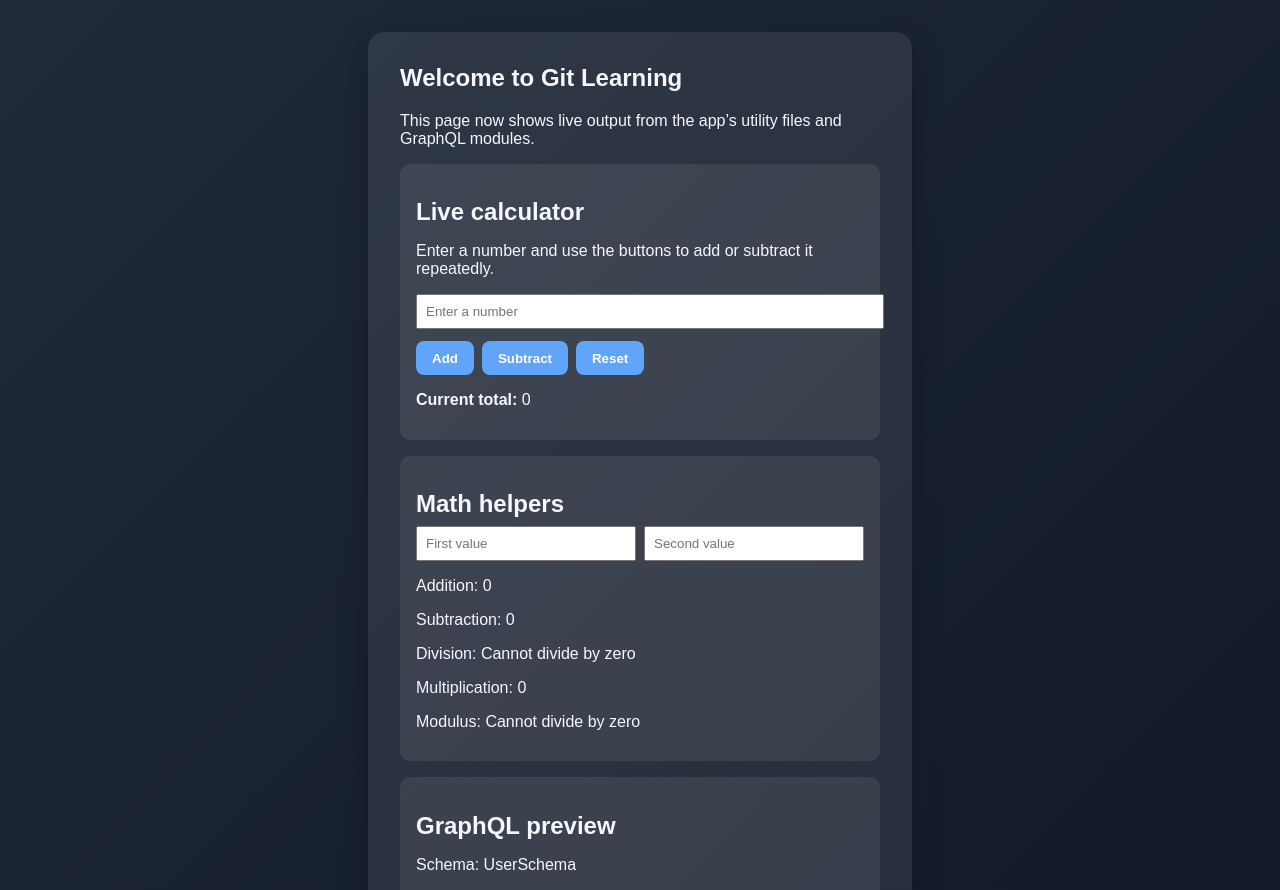
Test: App › supports repeated calculator operations and reset
The image size is (1280, 890).
In the number field with placeholder "Enter a number": [650, 312] box [416,294,884,329], type "5"
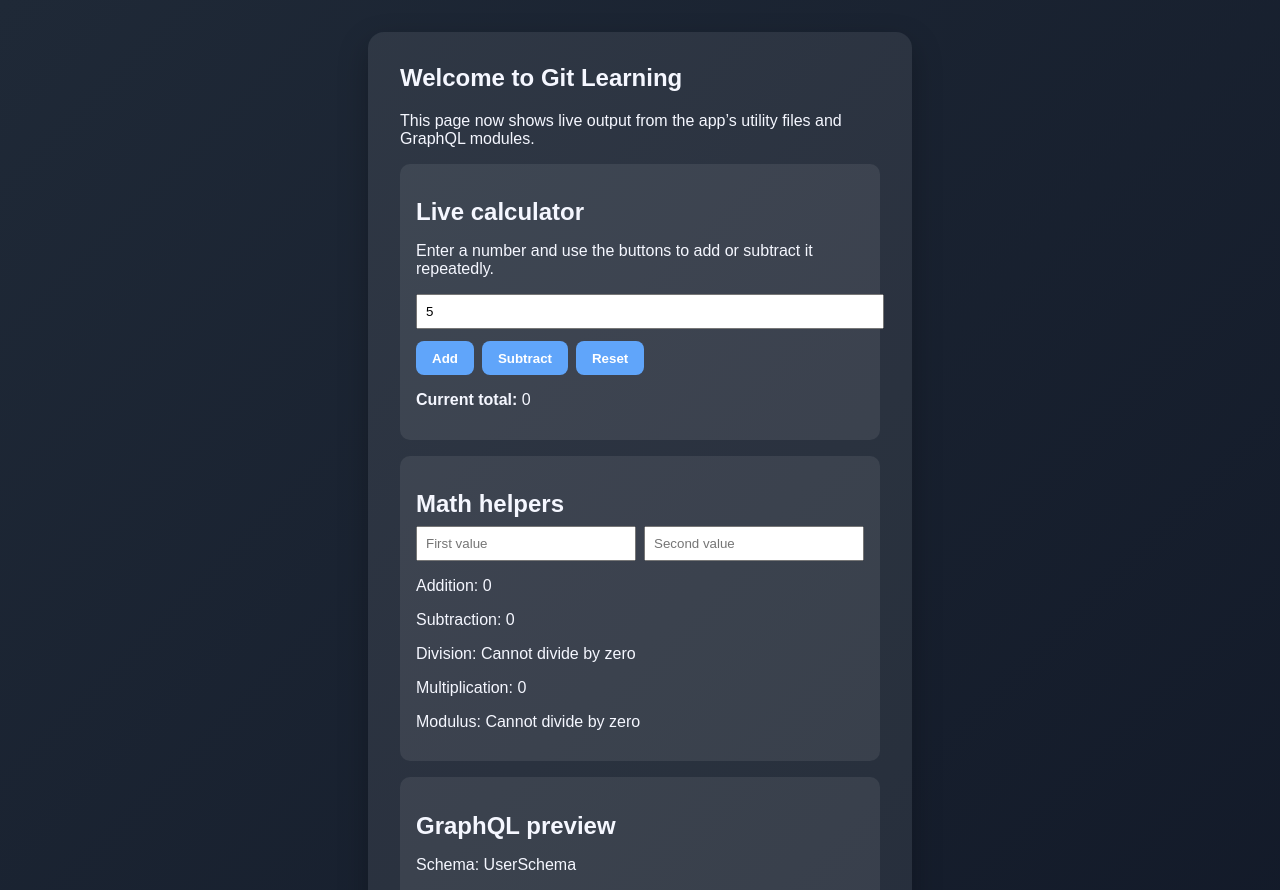
Click the button "Add": [445, 358] box [416,341,474,375]
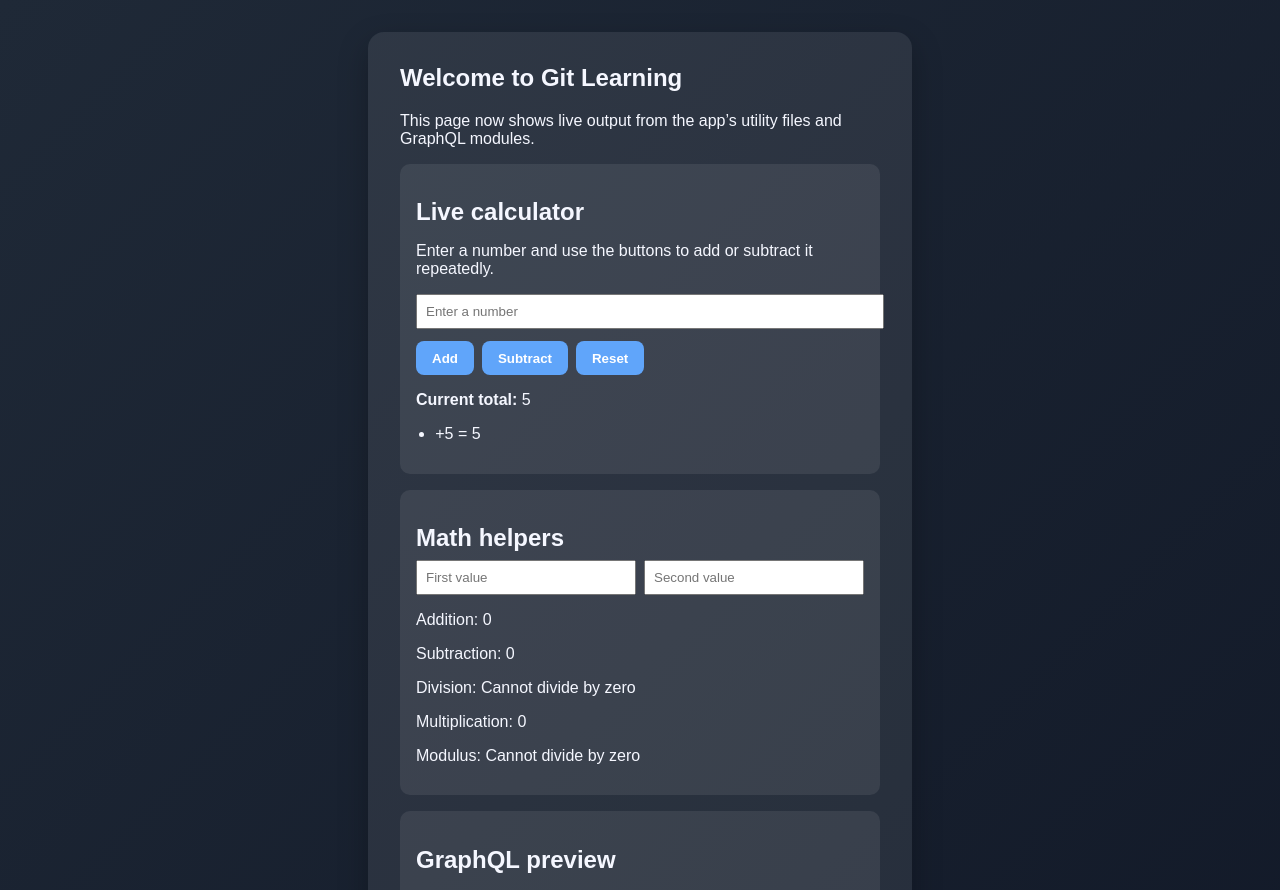
Check: the list item "+5 = 5" is shown, box [435,425,481,442]
Check: the number field with placeholder "Enter a number" is not empty
In the number field with placeholder "Enter a number": [650, 312] box [416,294,884,329], type "2"
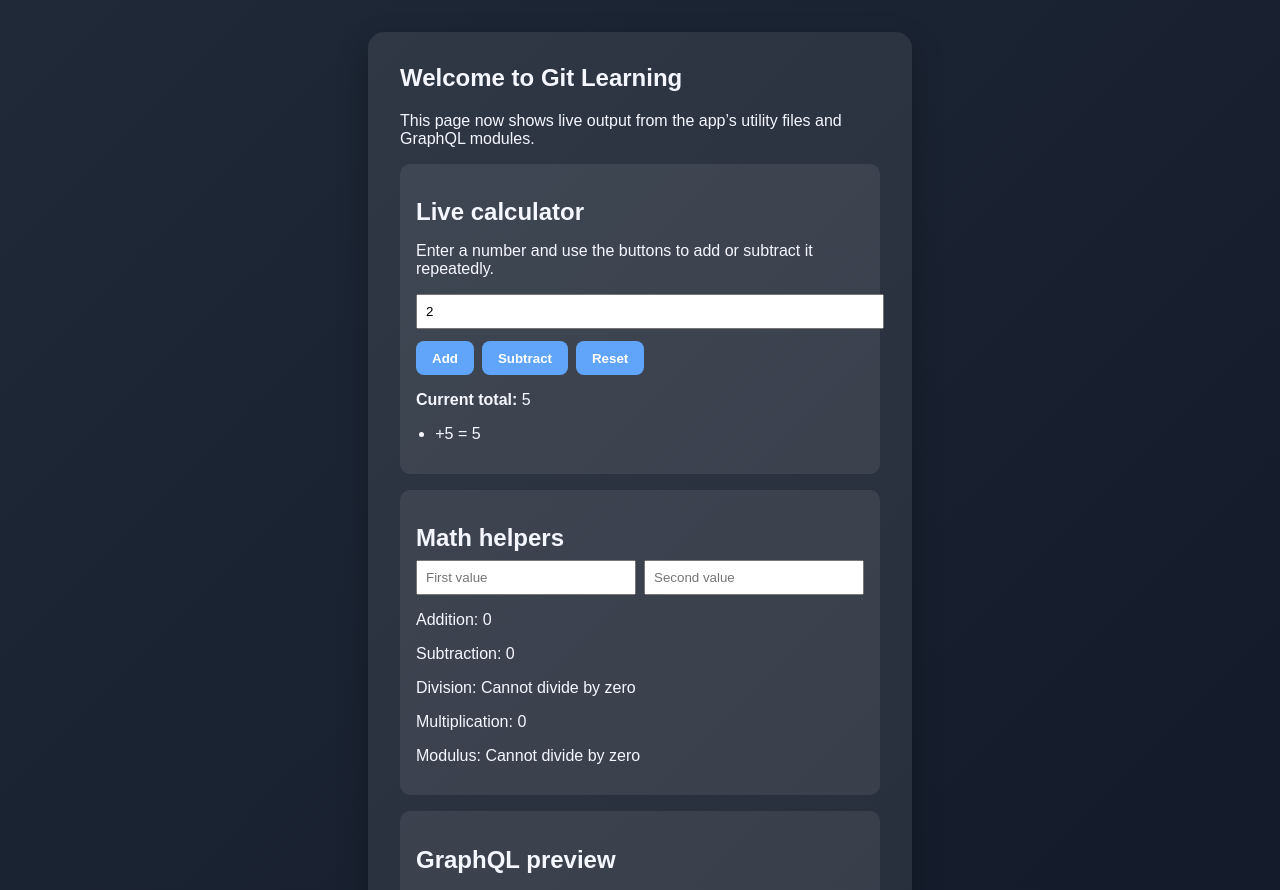
Click the button "Subtract": [525, 358] box [482,341,568,375]
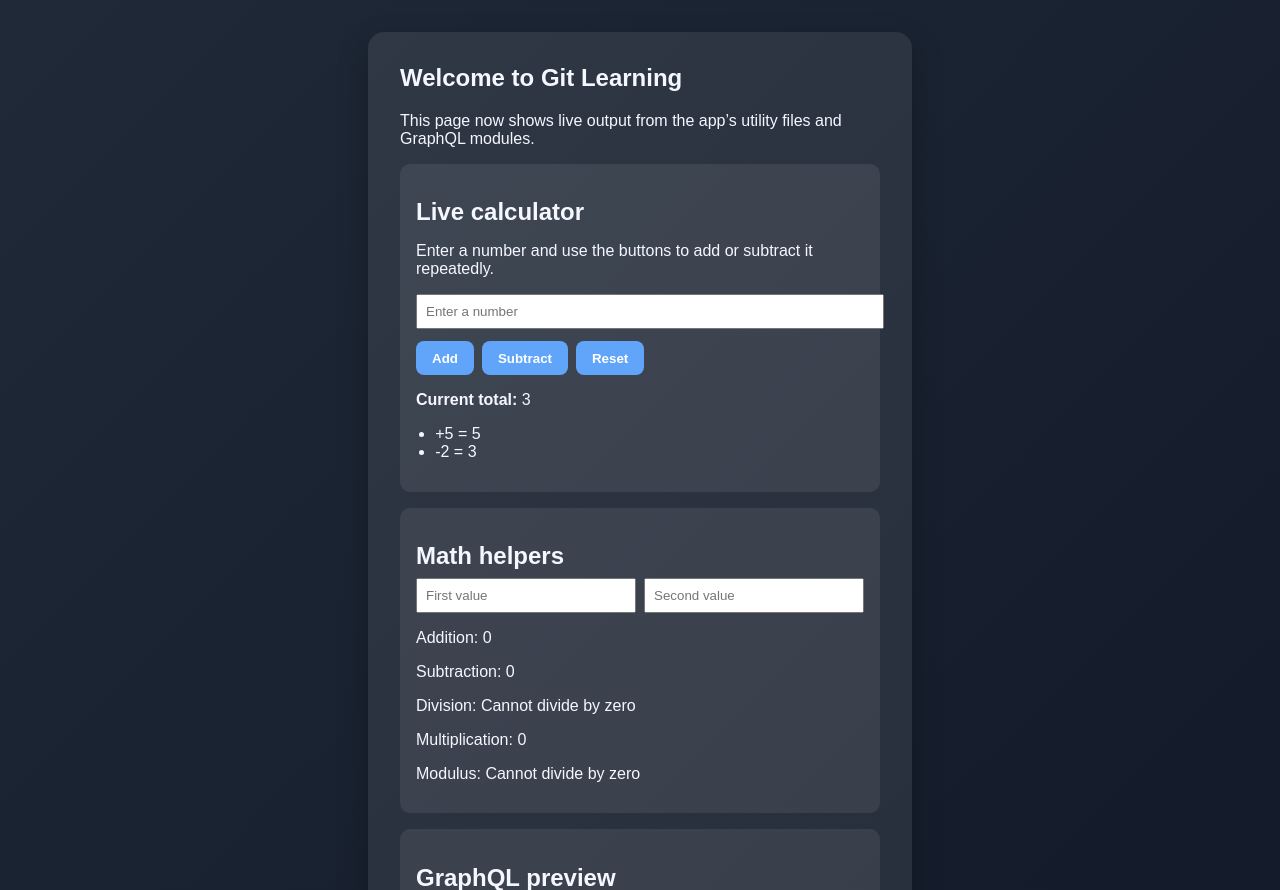
Check: the list item "-2 = 3" is shown, box [435,443,477,460]
Click the button "Reset": [610, 358] box [576,341,644,375]
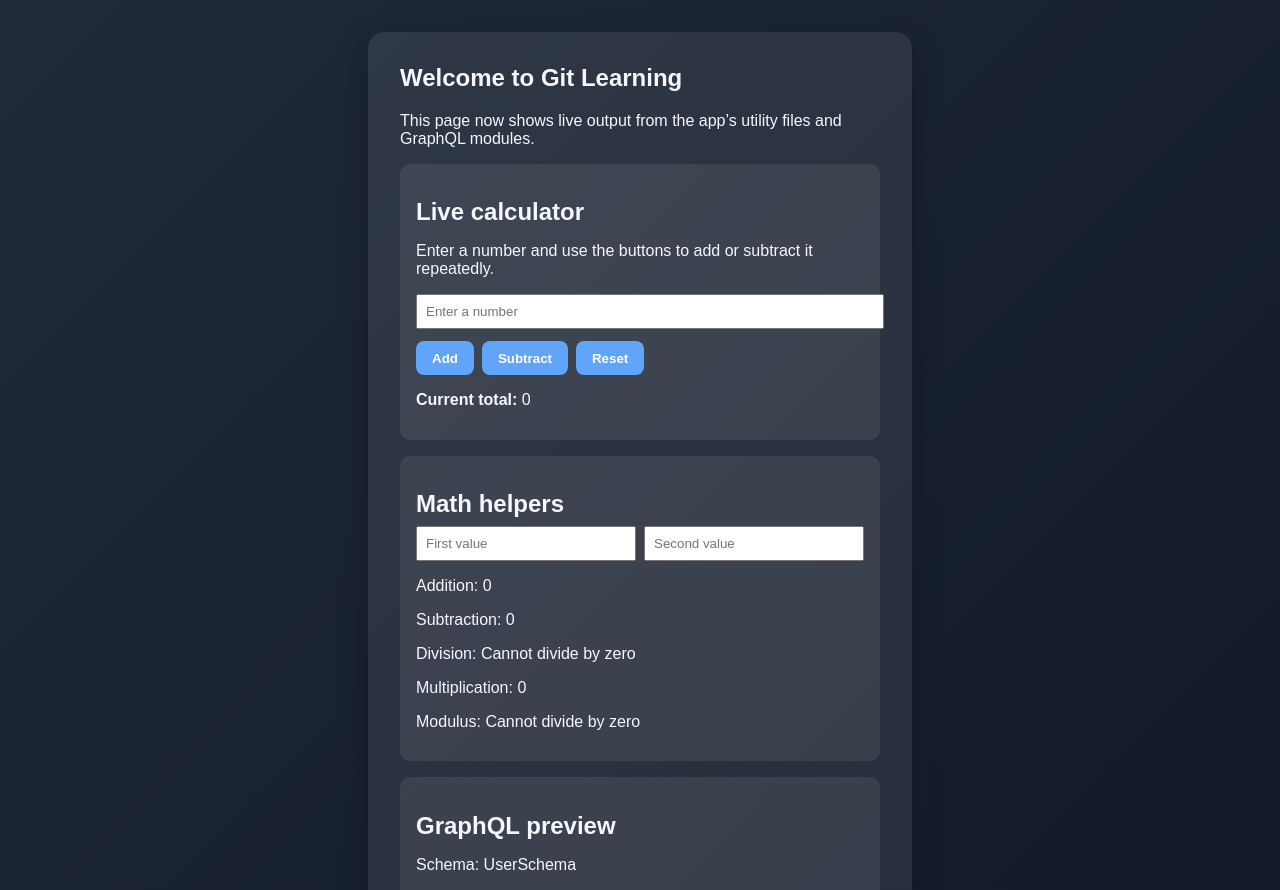
Check: the list item "+5 = 5" is gone
